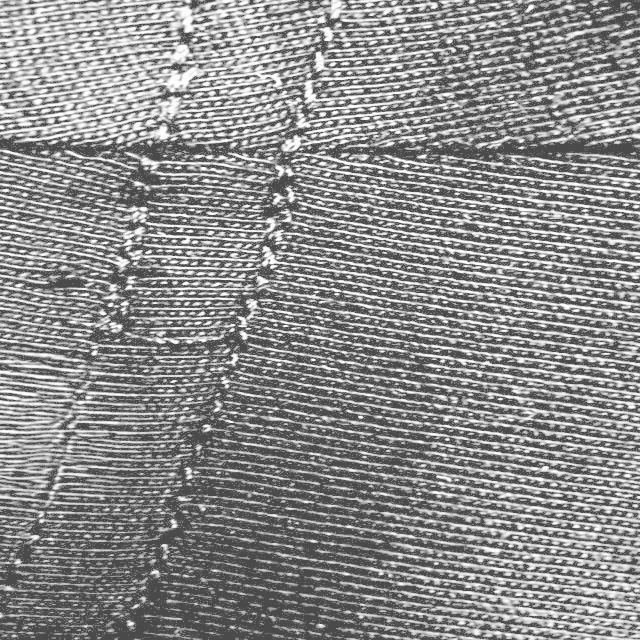Sewing_error: (98, 284, 250, 374)
